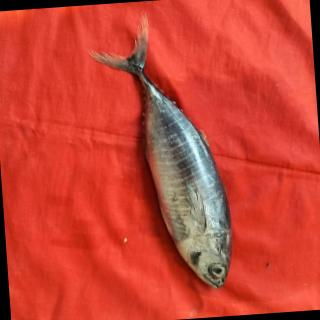Ikan: (78, 3, 241, 305)
